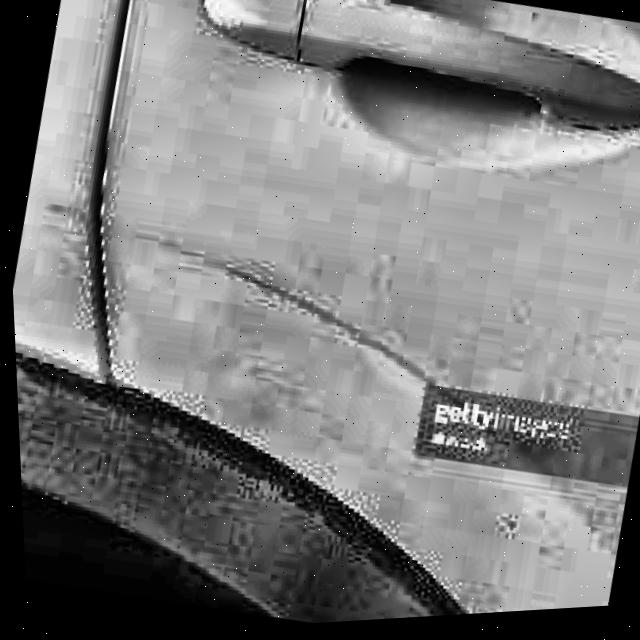door_scratch: (224, 260, 365, 355)
